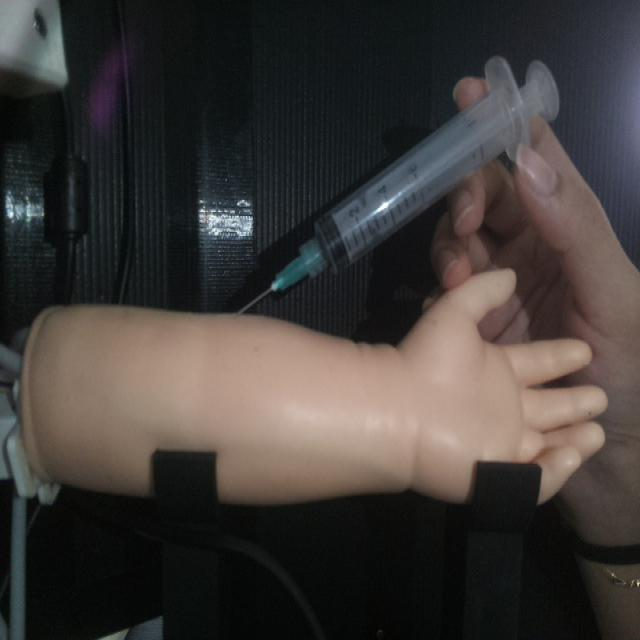Outside: (231, 52, 562, 315)
